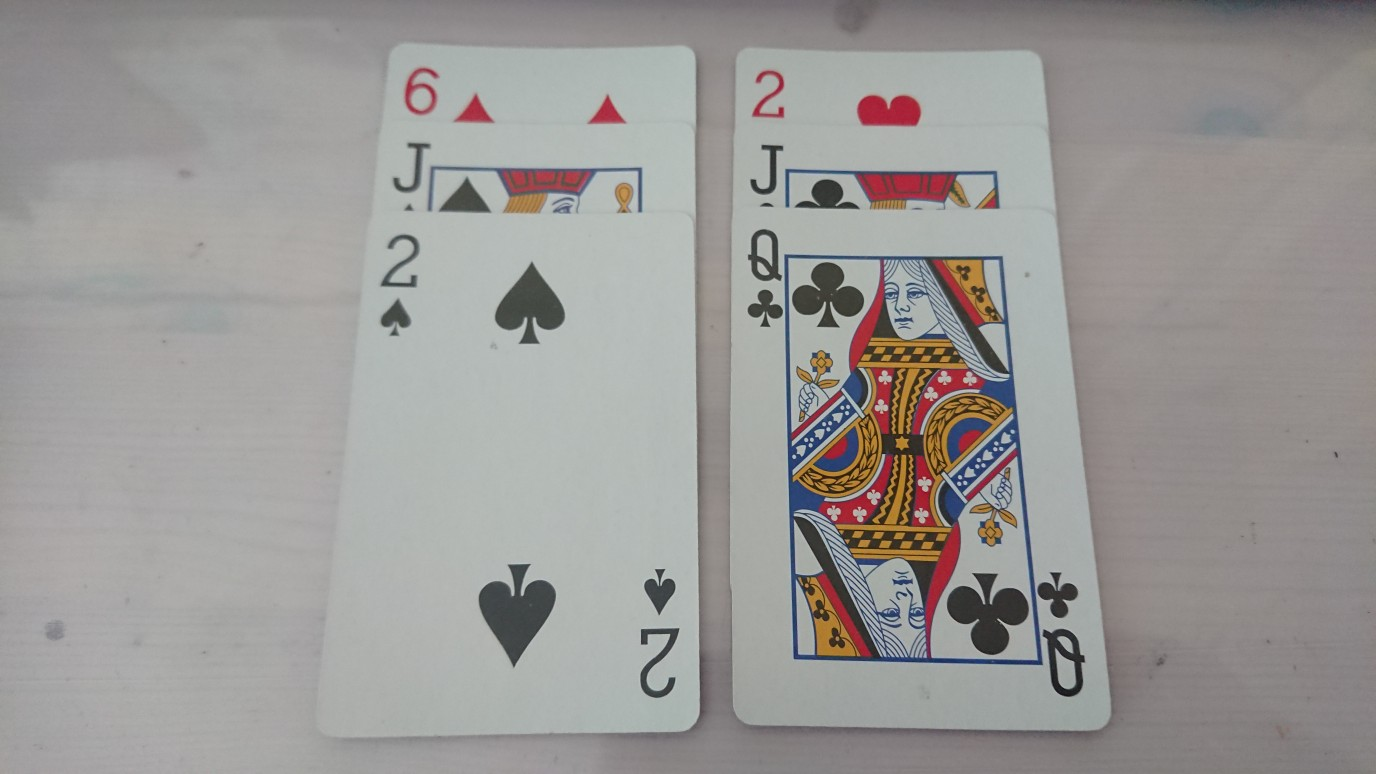2S: (375, 230, 423, 340)
QC: (744, 225, 783, 330)
